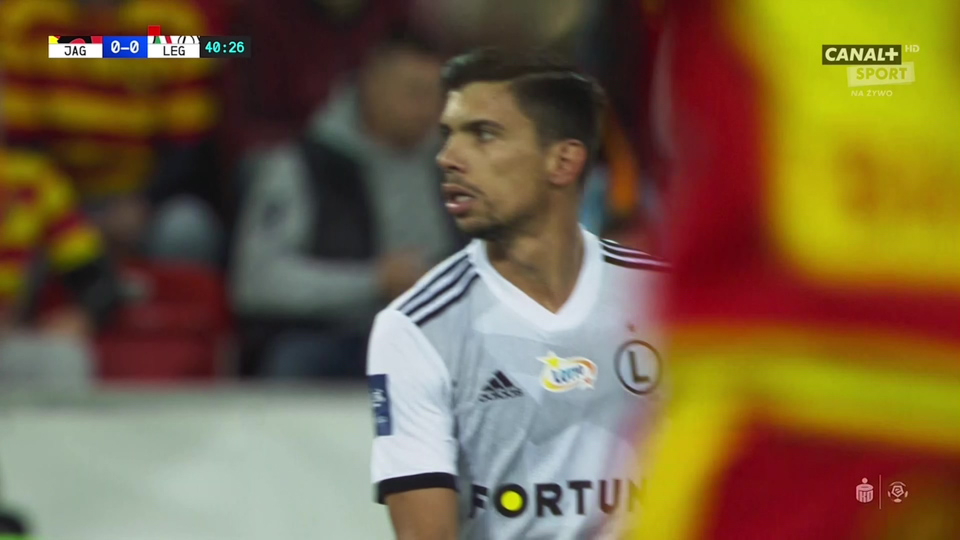Adidas: (476, 369, 525, 402)
